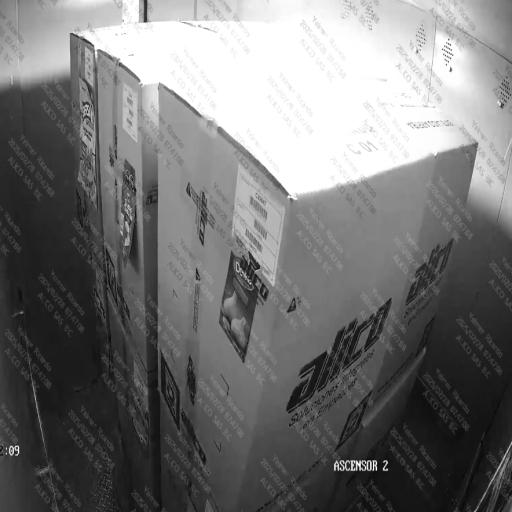Rollos sin amarrar: (68, 4, 420, 490)
